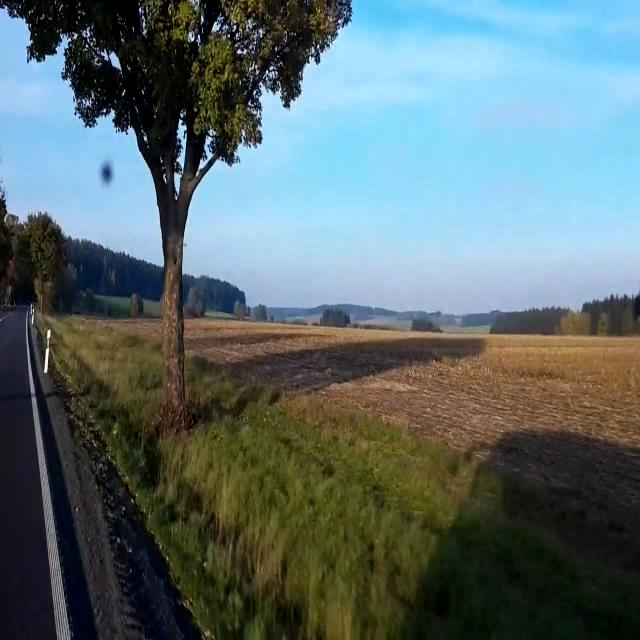lane: (27, 312, 71, 640)
road: (0, 308, 198, 639), (0, 309, 67, 639)
